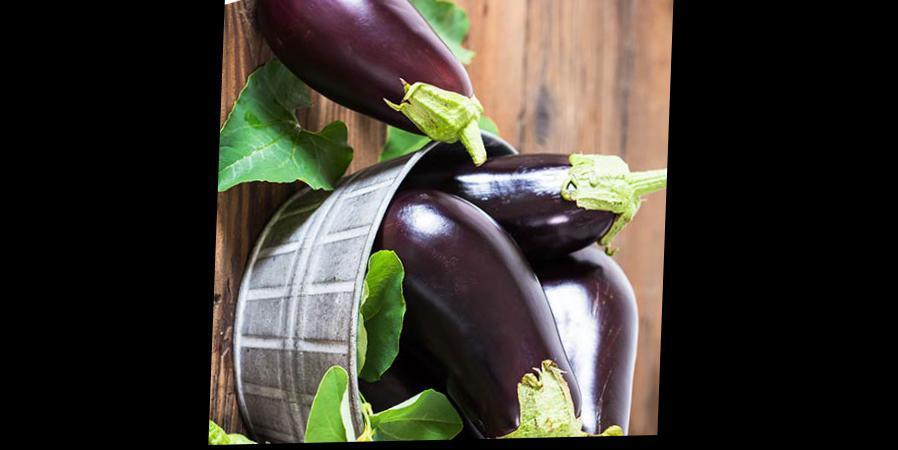eggplant: (257, 0, 647, 444)
